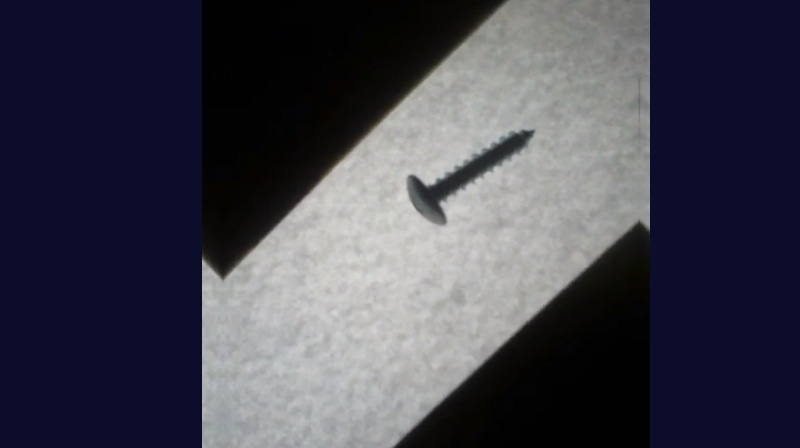S003: (403, 124, 537, 227)
